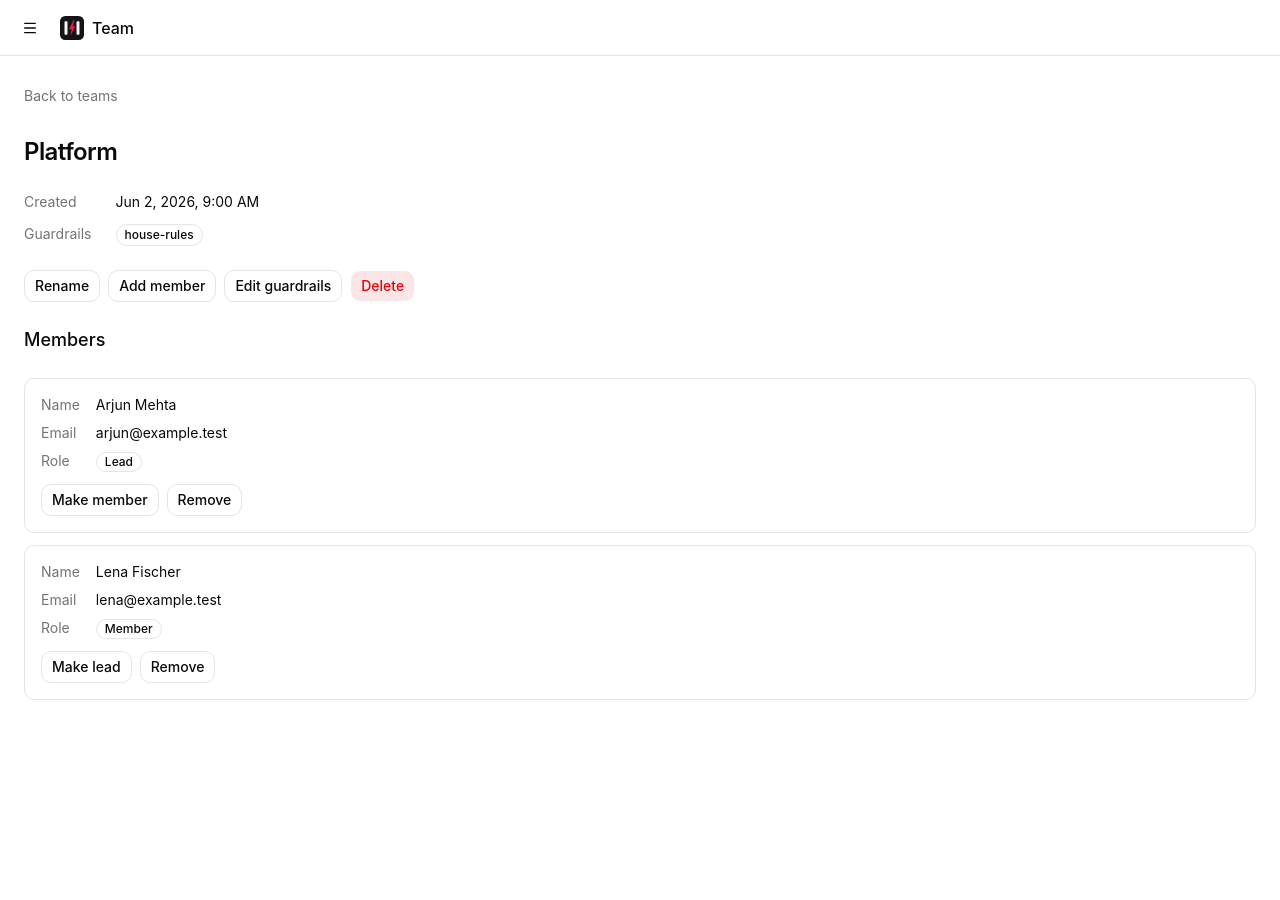
Test: the team page › an admin edits the guardrails of the team: the whole list in order, and the page shows it afterwards
This screenshot has width=1280, height=900.
Check: the heading "Platform" is shown, box [24,136,117,168]
Click the button "Edit guardrails" at x=283, y=286, box [224,270,342,302]
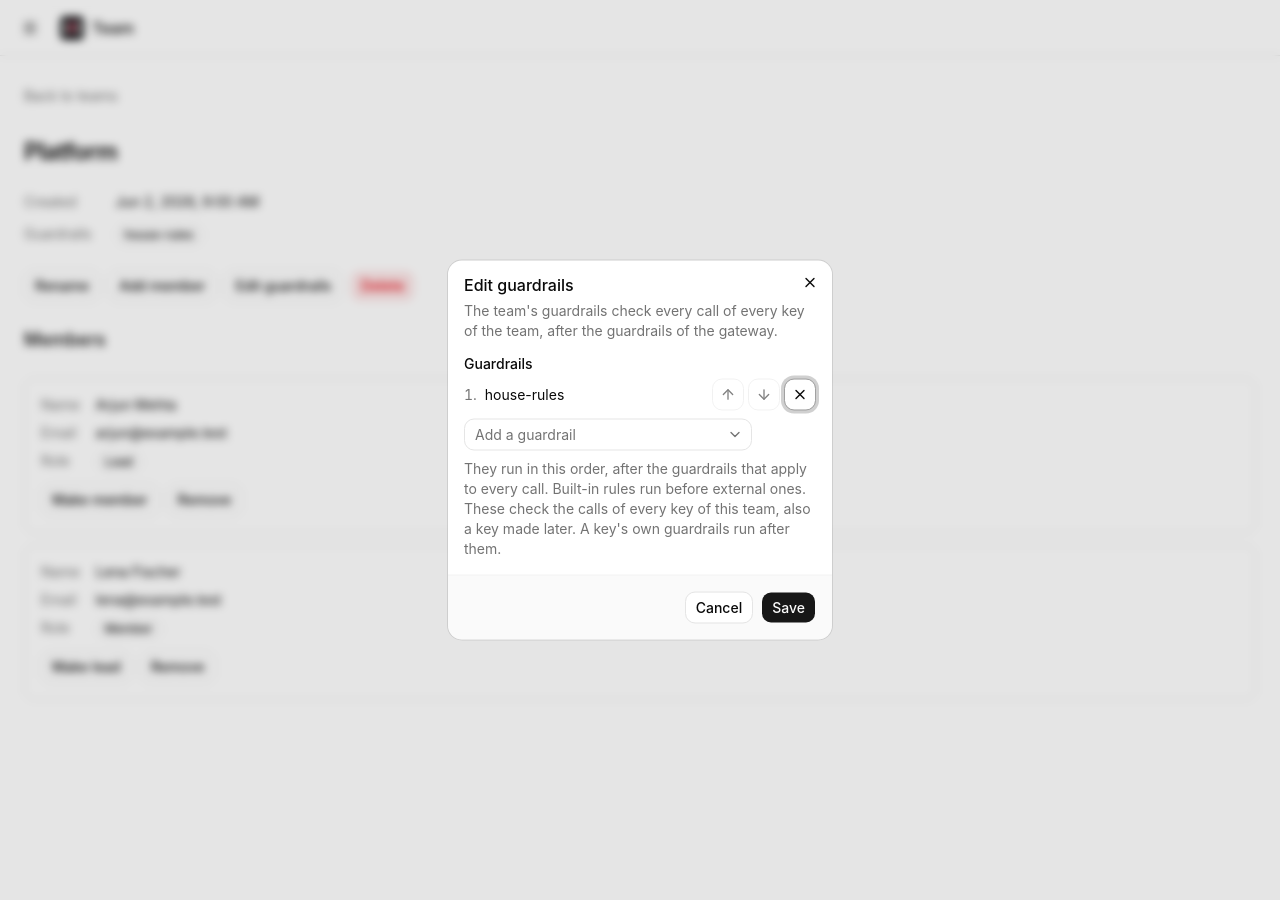
Check: the dialog "Edit guardrails" shows "every key of this team", box [464,460,811,556]
Click the dropdown labelled "Add a guardrail" at x=525, y=434, box [464,418,752,450]
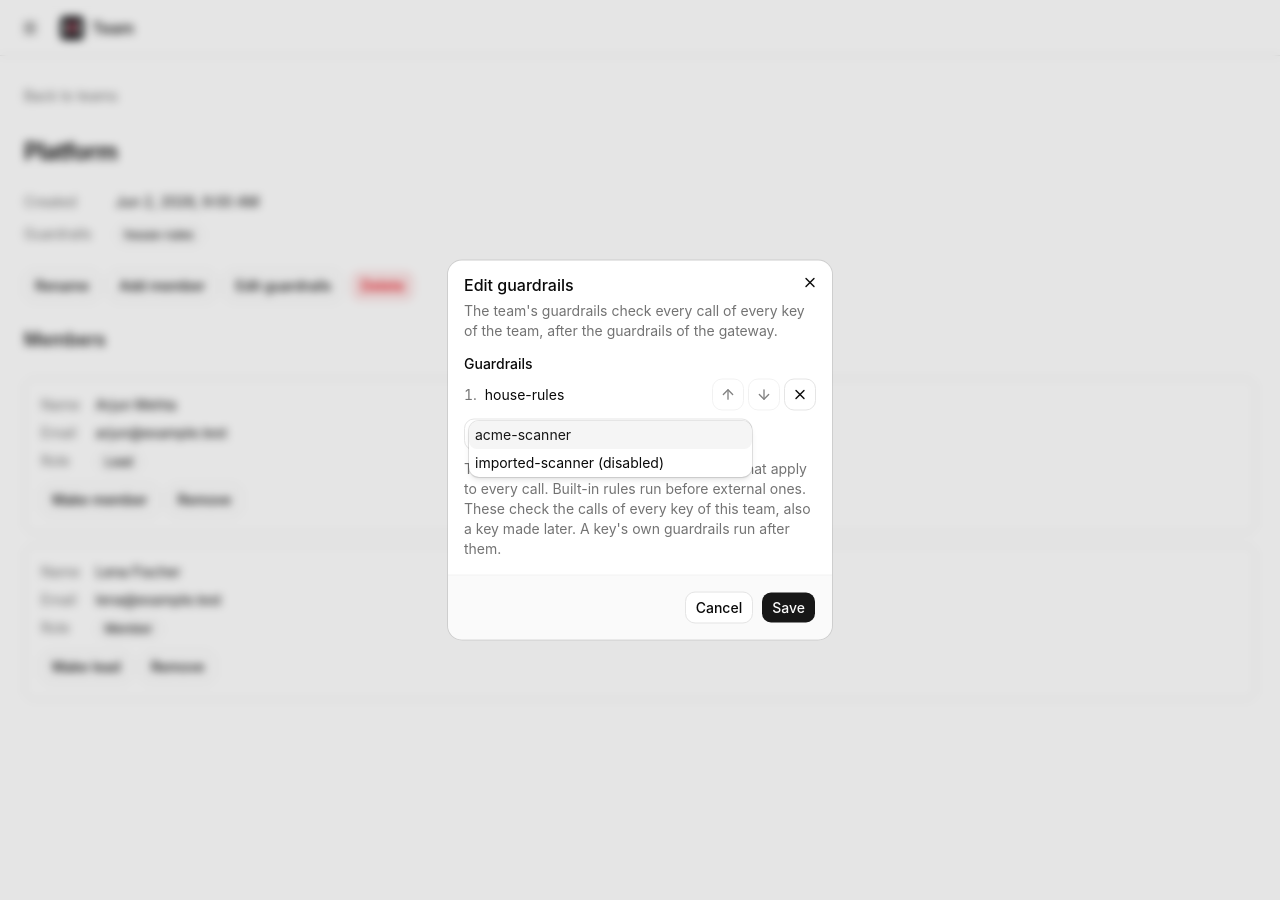
Click the option "acme-scanner" at x=523, y=434, box [469,420,752,448]
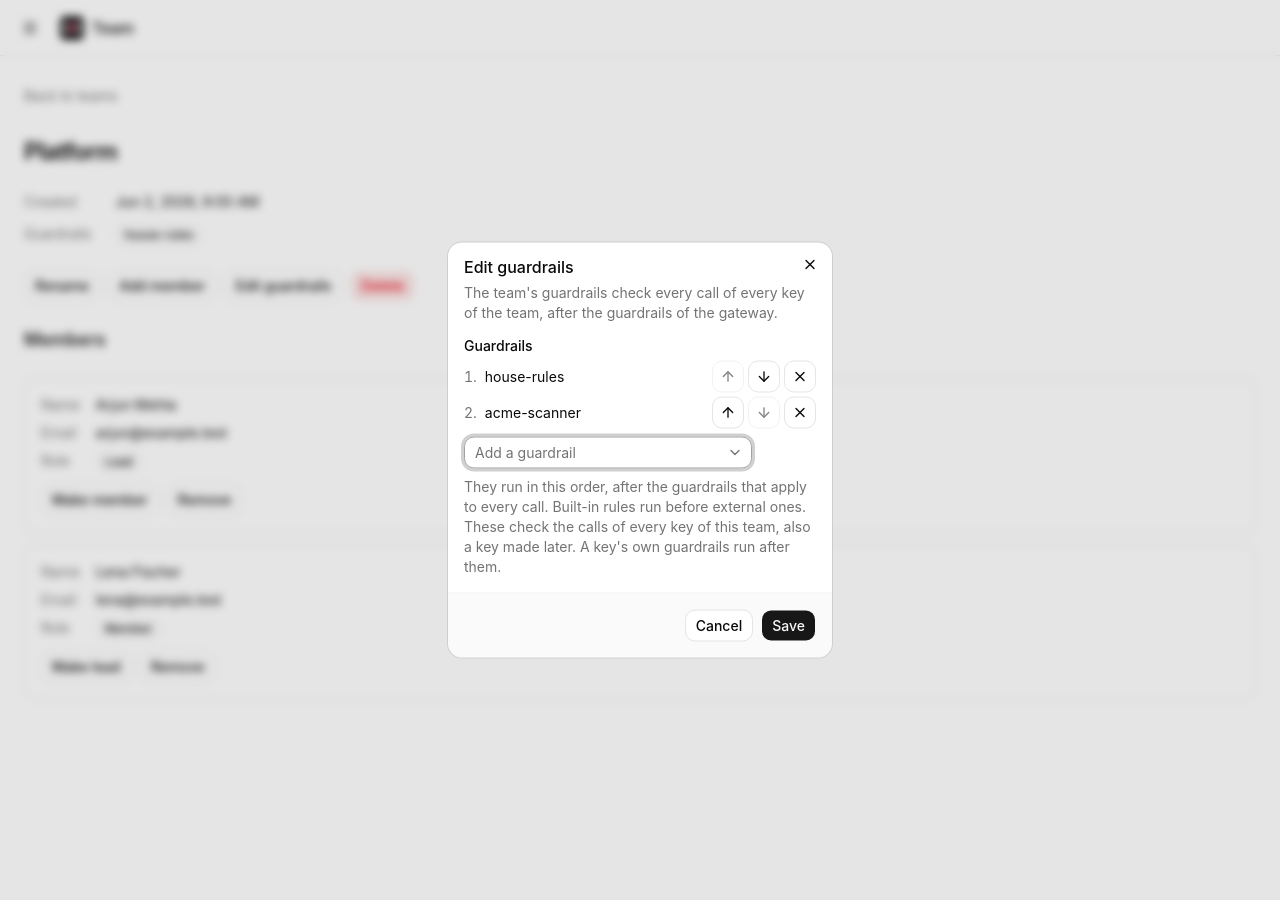
Check: the list is gone
Click the button "Save" at x=789, y=626, box [761,610,816,642]
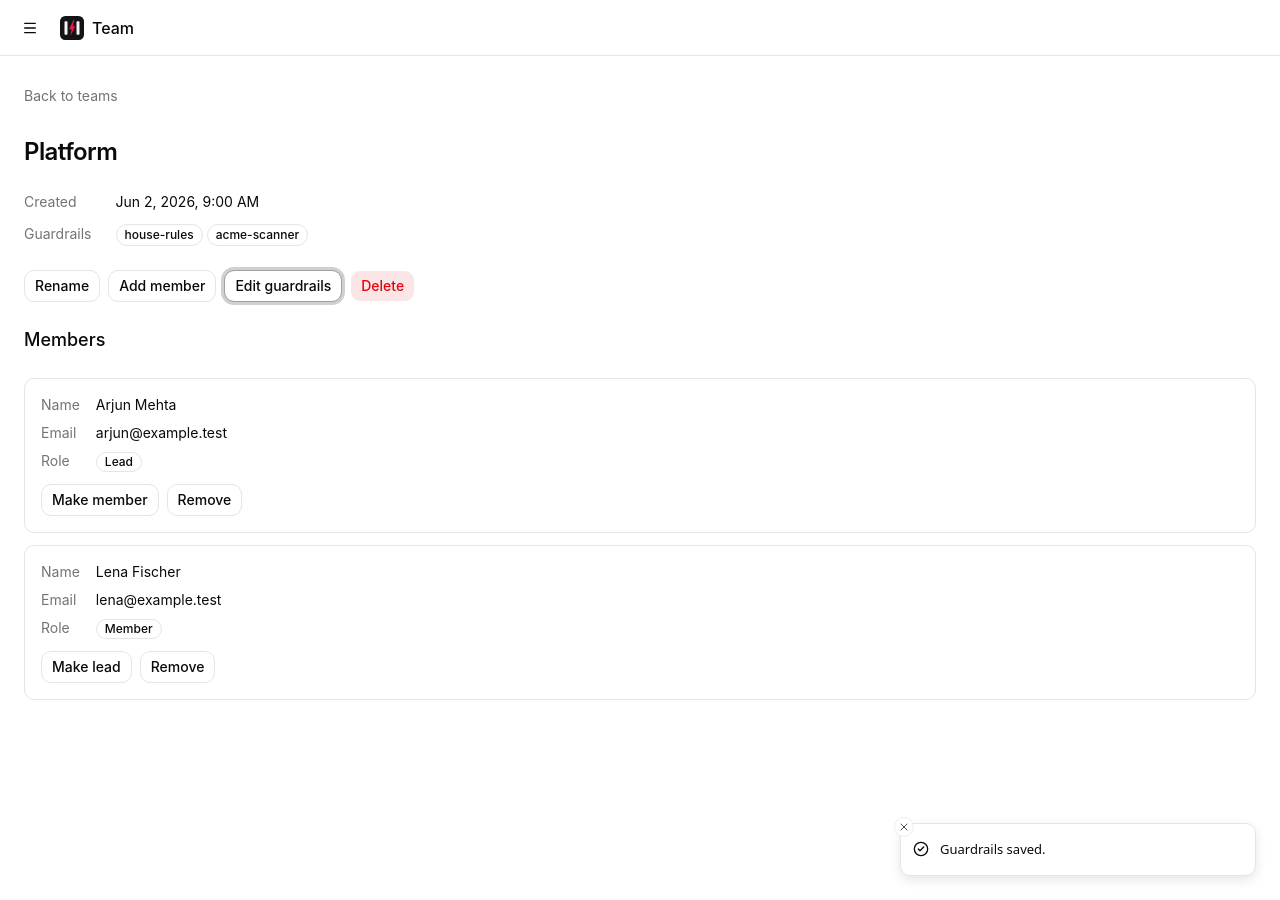
Check: the element named "Guardrails" shows "house-rules", box [124,227,194,242]
Check: the dialog is gone
Check: the element named "Guardrails" shows "acme-scanner", box [216,227,299,242]
